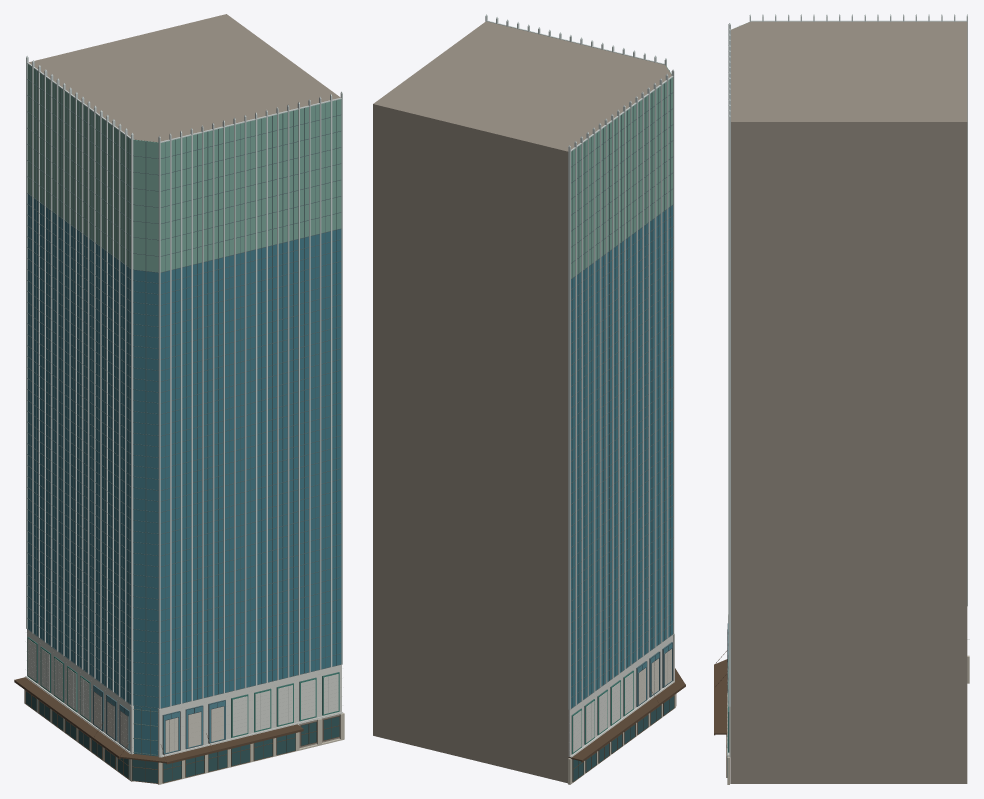
File: detail.glb
3 views of the same model, side by side, from view 1: azimuth 30°, elevation 25°; view 2: azimuth 150°, elevation 25°; view 3: azimuth 270°, elevation 25° (orthographic). The views are drawn at different scales.
Visible parts, largest first — view 1: G_upper_preserved_Changle_Observed_blue_curtain_glass, Changle_Observed_silver_vertical_ribs, Changle_Observed_dark_thin_frames, Changle_Observed_green_upper_panels, Changle_HOLD_unknown_rear_roof_base, H_retained_outside_six_bays_G_upper_preserved_Changle_Observ, G_corner_closed_glass_no_door_mechanism, G_visible_hanger_approx_F0, H_observed_opaque_stone_insert, H_retained_outside_six_bays_G_upper_preserved_F_green_perime, G_visible_low_columns, H_observed_blue_cap_and_side_glass (+2 smaller); view 2: Changle_HOLD_unknown_rear_roof_base, G_upper_preserved_Changle_Observed_blue_curtain_glass, Changle_Observed_silver_vertical_ribs, Changle_Observed_dark_thin_frames, Changle_Observed_green_upper_panels, H_retained_outside_six_bays_G_upper_preserved_Changle_Observ, G_visible_hanger_approx_F0, G_corner_closed_glass_no_door_mechanism, H_observed_opaque_stone_insert, H_retained_outside_six_bays_G_upper_preserved_F_green_perime; view 3: Changle_HOLD_unknown_rear_roof_base, Changle_Observed_silver_vertical_ribs, G_visible_hanger_approx_F0.
Boxes of the visible parts, x1,y1,x2,y2 form: G_upper_preserved_Changle_Observed_blue_curtain_glass: (27, 194, 341, 756); Changle_Observed_silver_vertical_ribs: (26, 56, 342, 708); Changle_Observed_dark_thin_frames: (27, 66, 341, 754); Changle_Observed_green_upper_panels: (27, 64, 341, 272); Changle_HOLD_unknown_rear_roof_base: (29, 14, 340, 748); H_retained_outside_six_bays_G_upper_preserved_Changle_Observ: (26, 629, 342, 757); G_corner_closed_glass_no_door_mechanism: (26, 691, 339, 783); G_visible_hanger_approx_F0: (14, 677, 339, 783); H_observed_opaque_stone_insert: (94, 692, 223, 752); H_retained_outside_six_bays_G_upper_preserved_F_green_perime: (27, 637, 339, 737); G_visible_low_columns: (24, 690, 344, 784); H_observed_blue_cap_and_side_glass: (93, 685, 225, 753); Changle_HOLD_unknown_rear_roof_base: (373, 21, 671, 783); G_upper_preserved_Changle_Observed_blue_curtain_glass: (571, 205, 672, 708); Changle_Observed_silver_vertical_ribs: (485, 14, 674, 709); Changle_Observed_dark_thin_frames: (571, 70, 673, 753); Changle_Observed_green_upper_panels: (571, 65, 672, 278); H_retained_outside_six_bays_G_upper_preserved_Changle_Observ: (568, 633, 674, 757); G_visible_hanger_approx_F0: (568, 668, 685, 782); G_corner_closed_glass_no_door_mechanism: (572, 696, 674, 781); H_observed_opaque_stone_insert: (638, 649, 671, 704); H_retained_outside_six_bays_G_upper_preserved_F_green_perime: (572, 670, 633, 754); Changle_HOLD_unknown_rear_roof_base: (730, 21, 967, 783); Changle_Observed_silver_vertical_ribs: (728, 14, 967, 706); G_visible_hanger_approx_F0: (714, 651, 727, 777).
Bounding box in the file's own units: 38.86 × 112 × 38.86.
